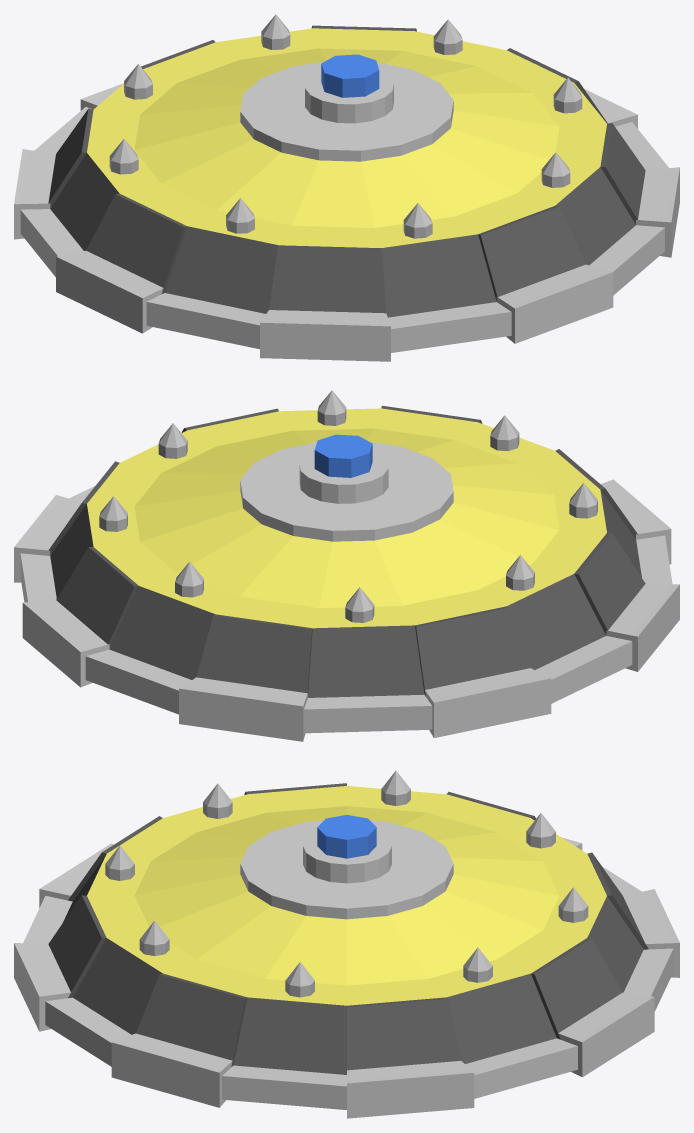
The model's file is Shield_5_e_metal.fbx.
3 renders of one model, top to bottom at view 1: azimuth 30°, elevation 25°; view 2: azimuth 150°, elevation 25°; view 3: azimuth 270°, elevation 25°, orthographic.
Visible parts, largest first — view 1: Circle.151, Circle.152, Circle.150, Circle.149, Circle.148, Circle.147, Circle.142, Circle.140, Circle.141, Circle.146, Circle.143, Circle.144 (+2 smaller); view 2: Circle.151, Circle.152, Circle.150, Circle.149, Circle.148, Circle.147, Circle.142, Circle.141, Circle.145, Circle.140, Circle.144, Circle.138 (+2 smaller); view 3: Circle.151, Circle.152, Circle.150, Circle.149, Circle.148, Circle.147, Circle.144, Circle.141, Circle.146, Circle.145, Circle.142, Circle.140 (+2 smaller).
Boxes of the visible parts, box(x1,y1,x2,y2) form: Circle.151: box(87, 28, 606, 247); Circle.152: box(48, 25, 645, 317); Circle.150: box(14, 83, 679, 361); Circle.149: box(240, 62, 453, 161); Circle.148: box(305, 71, 393, 123); Circle.147: box(321, 54, 379, 97); Circle.142: box(553, 78, 582, 113); Circle.140: box(403, 203, 432, 238); Circle.141: box(541, 152, 570, 187); Circle.146: box(109, 139, 138, 174); Circle.143: box(433, 19, 462, 54); Circle.144: box(261, 14, 290, 49); Circle.151: box(87, 408, 606, 628); Circle.152: box(48, 405, 645, 697); Circle.150: box(14, 479, 679, 741); Circle.149: box(240, 442, 453, 541); Circle.148: box(299, 452, 388, 503); Circle.147: box(314, 434, 372, 477); Circle.142: box(158, 423, 187, 458); Circle.141: box(317, 390, 346, 425); Circle.145: box(345, 587, 374, 622); Circle.140: box(490, 415, 519, 450); Circle.144: box(175, 561, 203, 597); Circle.138: box(569, 483, 597, 518); Circle.151: box(87, 786, 606, 1005); Circle.152: box(48, 783, 648, 1074); Circle.150: box(14, 837, 679, 1118); Circle.149: box(240, 820, 453, 919); Circle.148: box(303, 832, 391, 883); Circle.147: box(317, 815, 376, 858); Circle.144: box(558, 887, 588, 922); Circle.141: box(139, 920, 169, 956); Circle.146: box(381, 770, 410, 805); Circle.145: box(526, 813, 555, 848); Circle.142: box(285, 962, 314, 997); Circle.140: box(105, 845, 134, 880).
Bounding box in the file's own units: 56.1 × 19.57 × 56.1.
